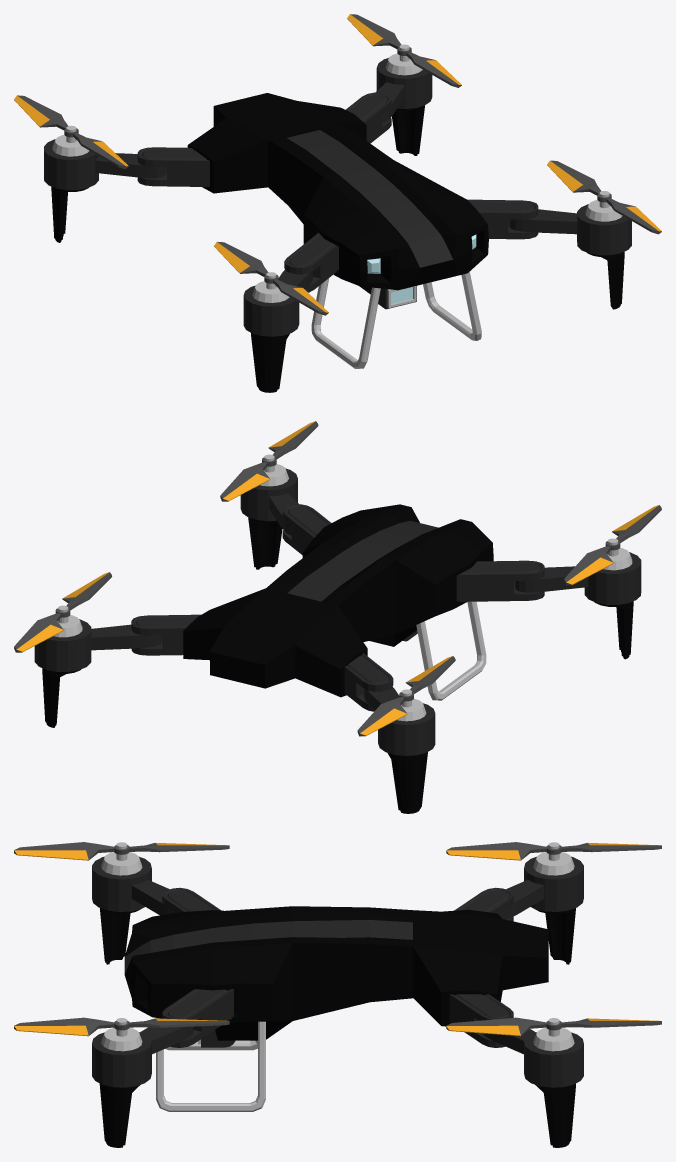
Rendered from drone_converted.glb.
3 renders of one model, top to bottom at view 1: azimuth 30°, elevation 25°; view 2: azimuth 150°, elevation 25°; view 3: azimuth 270°, elevation 25°, orthographic. The views are drawn at different scales.
Visible parts, largest first — view 1: Body, Rotor_FL, Rotor_BL, Rotor_BR, Rotor_FR, Cube.002; view 2: Body, Rotor_FR, Rotor_BL, Rotor_FL, Rotor_BR; view 3: Body, Rotor_FL, Rotor_BL, Rotor_FR, Rotor_BR.
Boxes of the visible parts, x1,y1,x2,y2 form: Body: (44,44,631,392); Rotor_FL: (547,160,661,234); Rotor_BL: (347,14,461,87); Rotor_BR: (14,95,128,169); Rotor_FR: (214,241,328,315); Cube.002: (378,285,416,309); Body: (34,454,641,813); Rotor_FR: (564,505,661,585); Rotor_BL: (14,572,111,652); Rotor_FL: (220,421,318,501); Rotor_BR: (357,656,455,736); Body: (92,842,583,1147); Rotor_FL: (14,1017,229,1036); Rotor_BL: (446,1017,661,1036); Rotor_FR: (14,842,229,860); Rotor_BR: (446,842,661,860).
Size of the model in its own units: 0.5736 by 0.2076 by 0.7813.
1 material, 1 textured.
